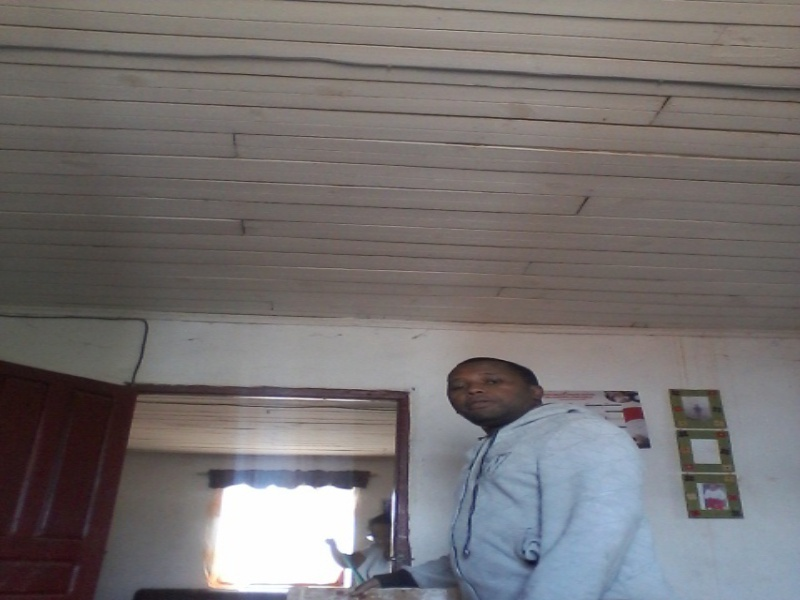TsisyArotava: (438, 343, 539, 433)
